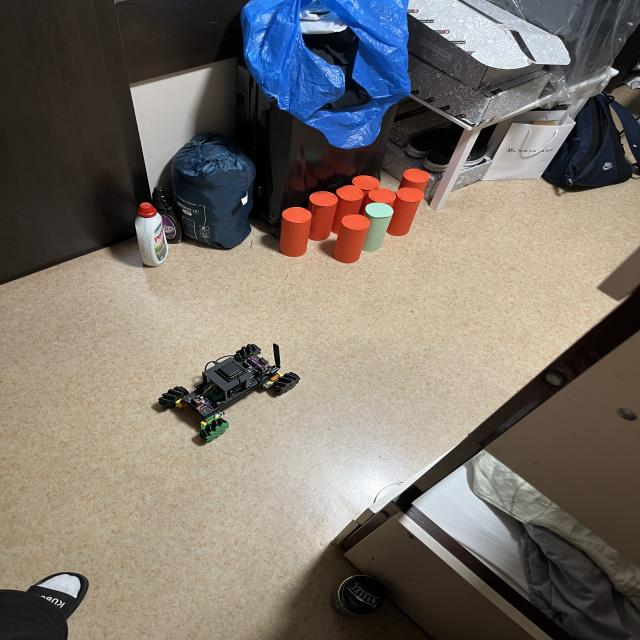robot: (158, 344, 300, 442)
